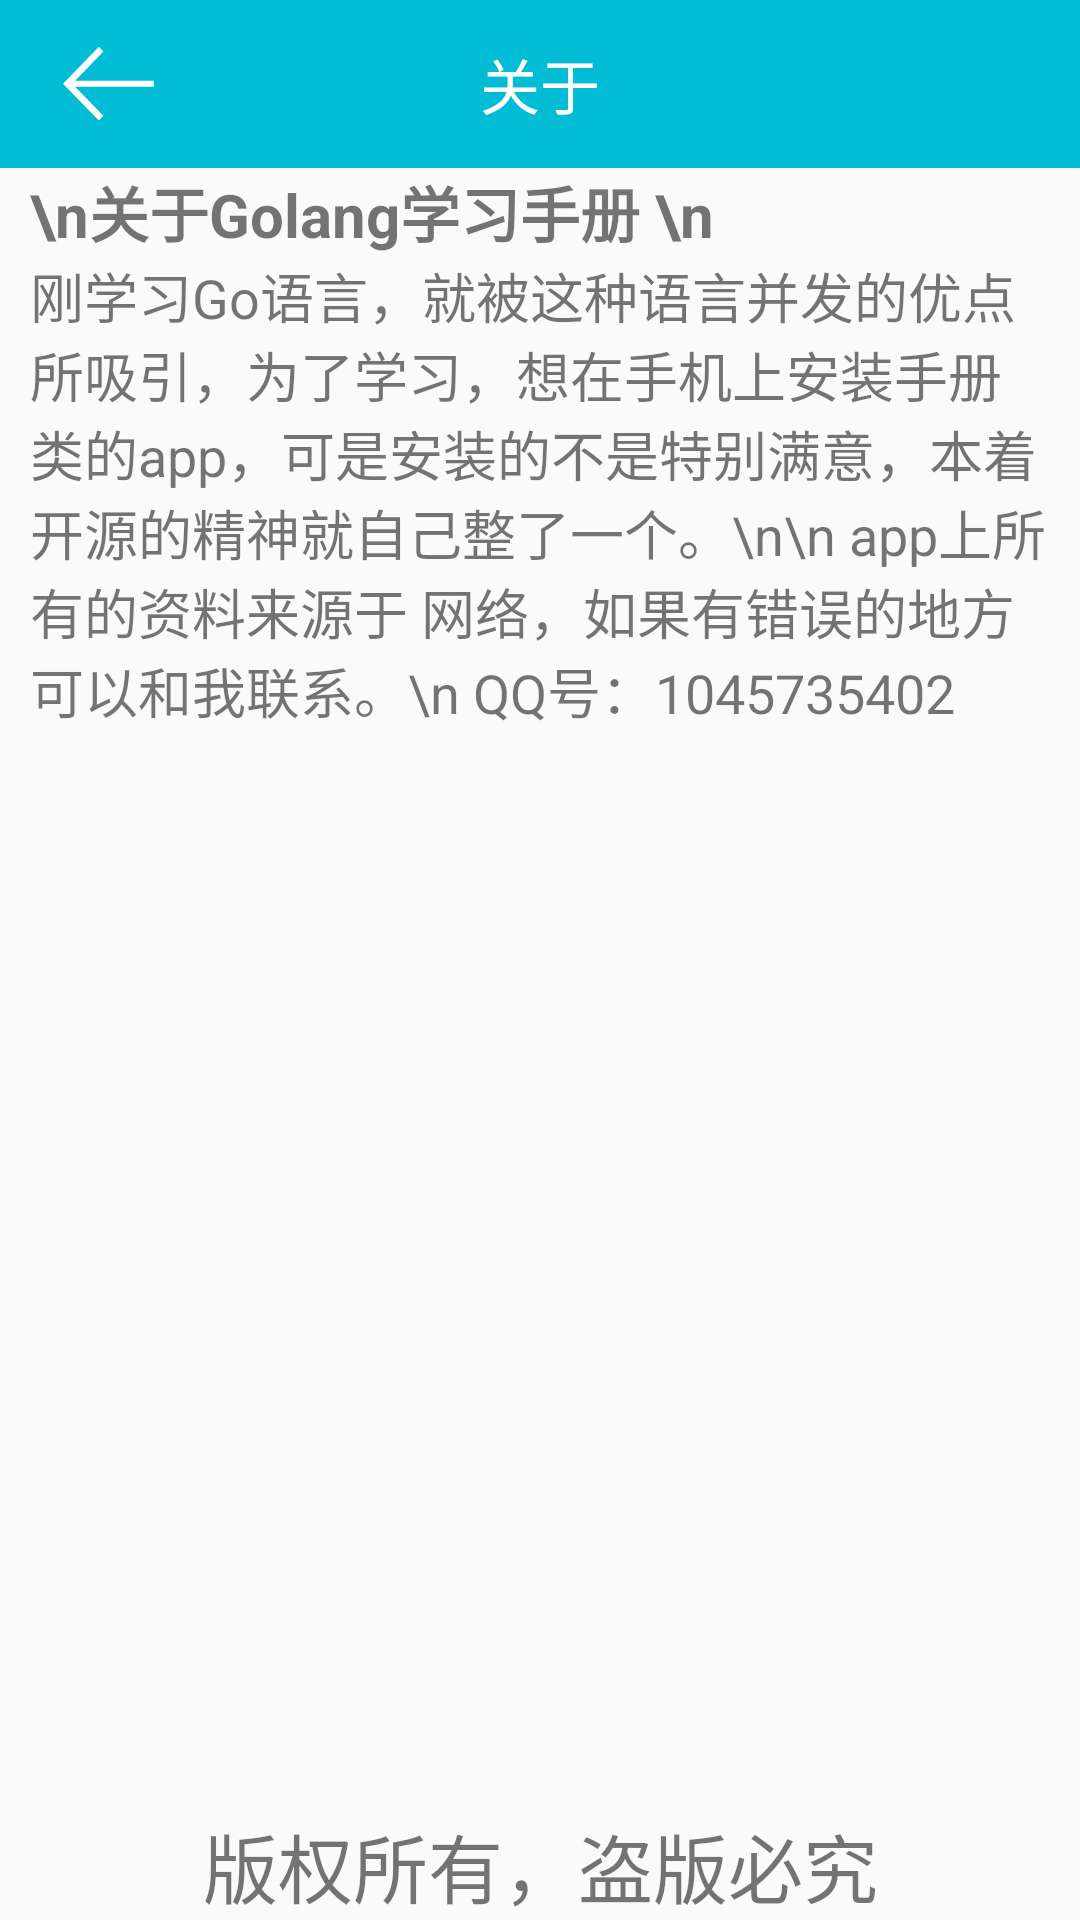

Icons on this 1080 x 1920 Android screen, each with its box as (x1, y1, x2, y2):
back: (63, 47, 154, 121)
